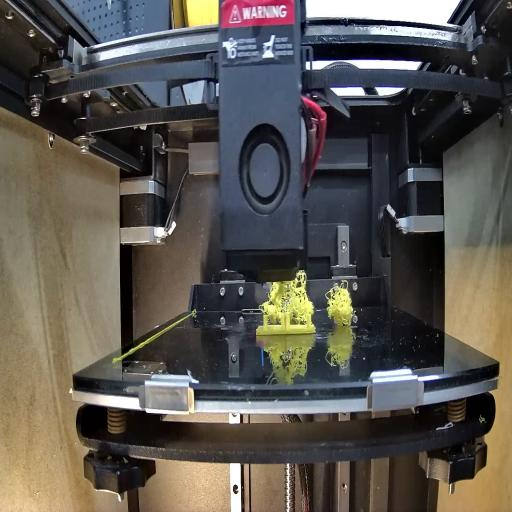spaghetti: (263, 267, 314, 322), (325, 283, 357, 328)
